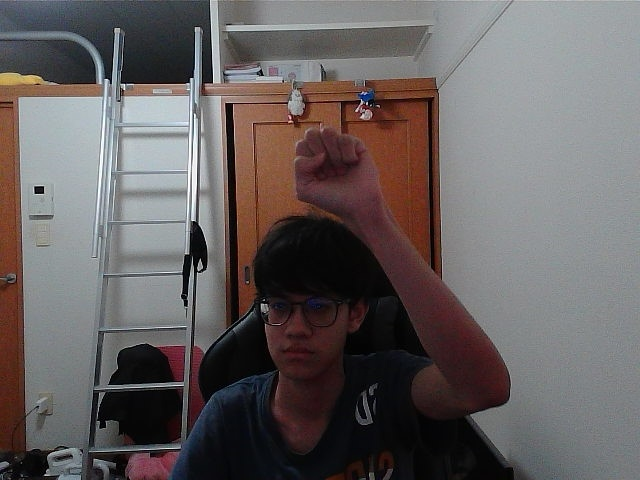closed_palm: (300, 134, 358, 204)
